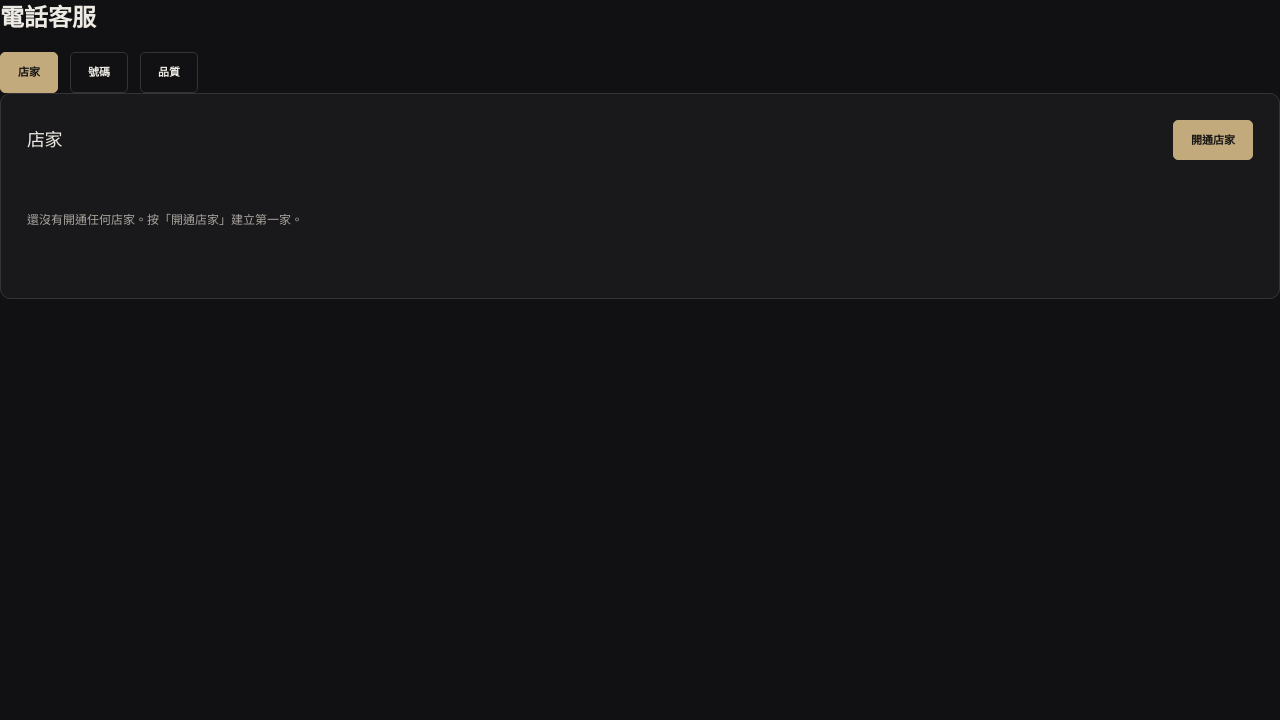
Test case: admin phone agent section › offers the Quality tab with the listening log below it (zh)
Click the tab "品質" at (169, 72), box [140, 52, 198, 92]
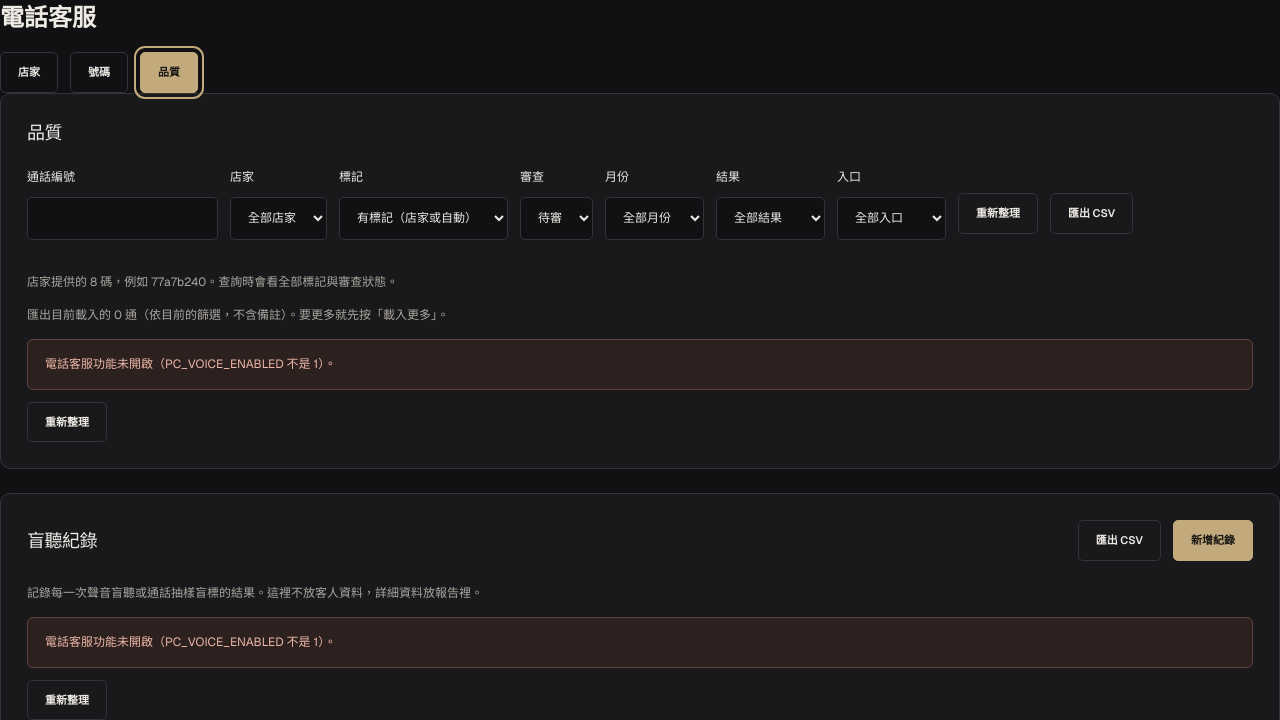
Check: the heading "品質" is shown, box [27, 120, 62, 146]
Check: the heading "盲聽紀錄" is shown, box [27, 528, 97, 554]
